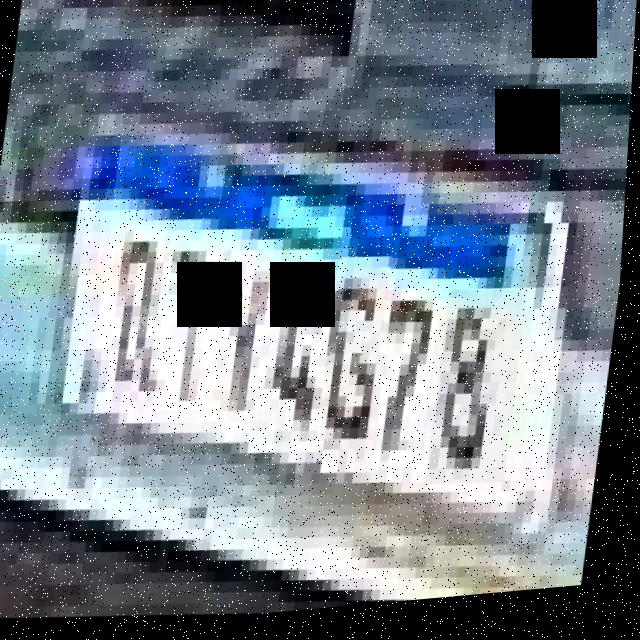4: (264, 268, 341, 464), (94, 223, 170, 399)
7: (378, 292, 445, 478)
8: (430, 294, 532, 499)
G: (321, 257, 396, 475)
T: (154, 233, 233, 418)
Y: (209, 252, 284, 446)
